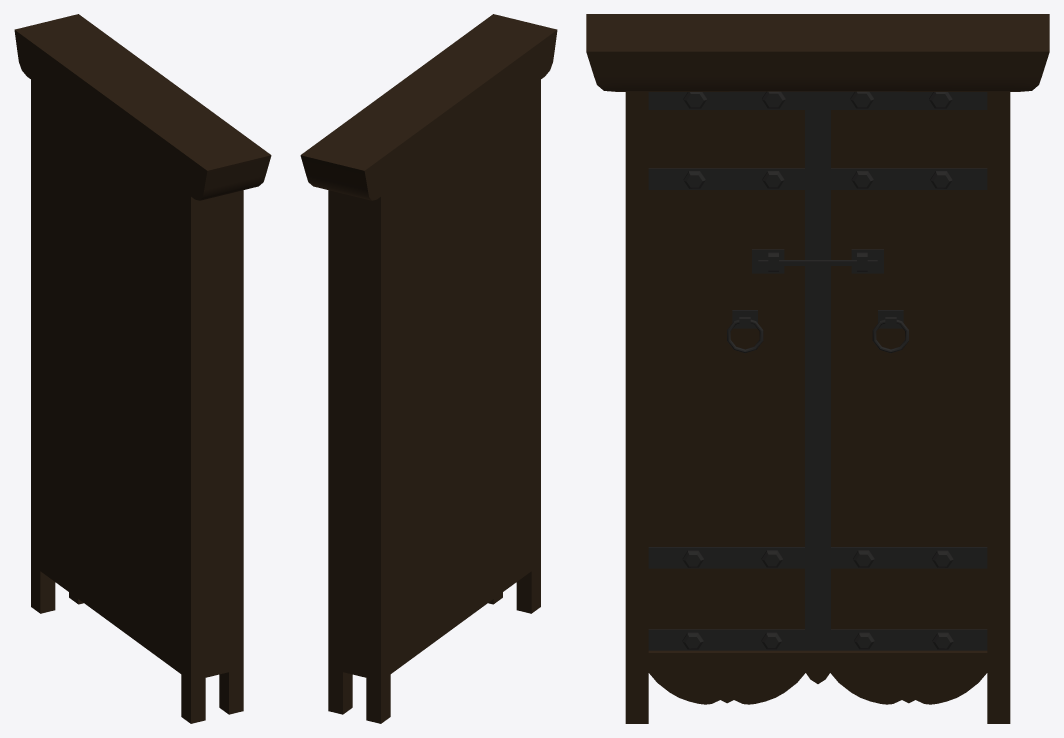
File: SM_closet.fbx
3 renders of one model, left to right at view 1: azimuth 30°, elevation 25°; view 2: azimuth 150°, elevation 25°; view 3: azimuth 270°, elevation 25°, orthographic. The views are drawn at different scales.
Visible parts, largest first — view 1: SM_closet; view 2: SM_closet; view 3: SM_closet.
Part boxes in pixels (<box>): SM_closet: <box>14,14,271,723</box>; SM_closet: <box>300,14,557,723</box>; SM_closet: <box>586,14,1049,723</box>.
Bounding box in the file's own units: 24 × 202 × 125.
